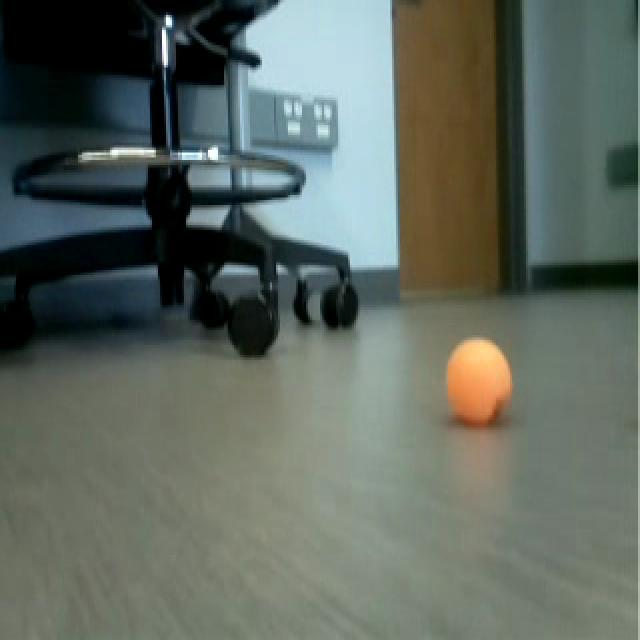oball: (436, 334, 518, 426)
